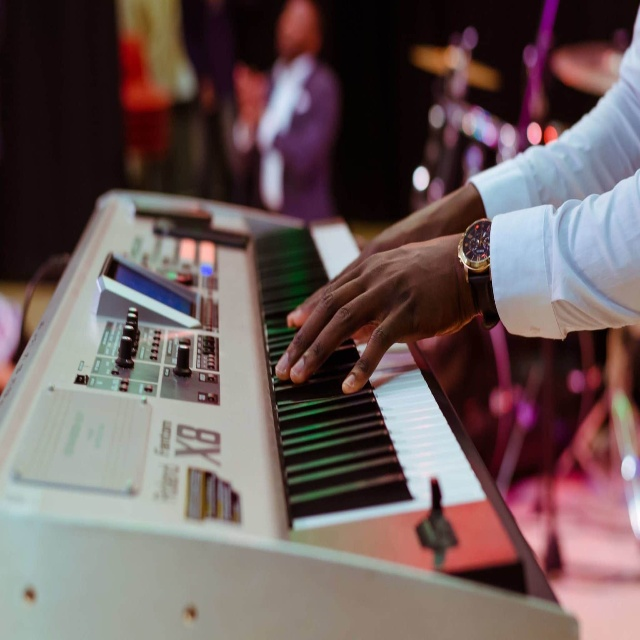Sin_guantes: (275, 231, 472, 395)
